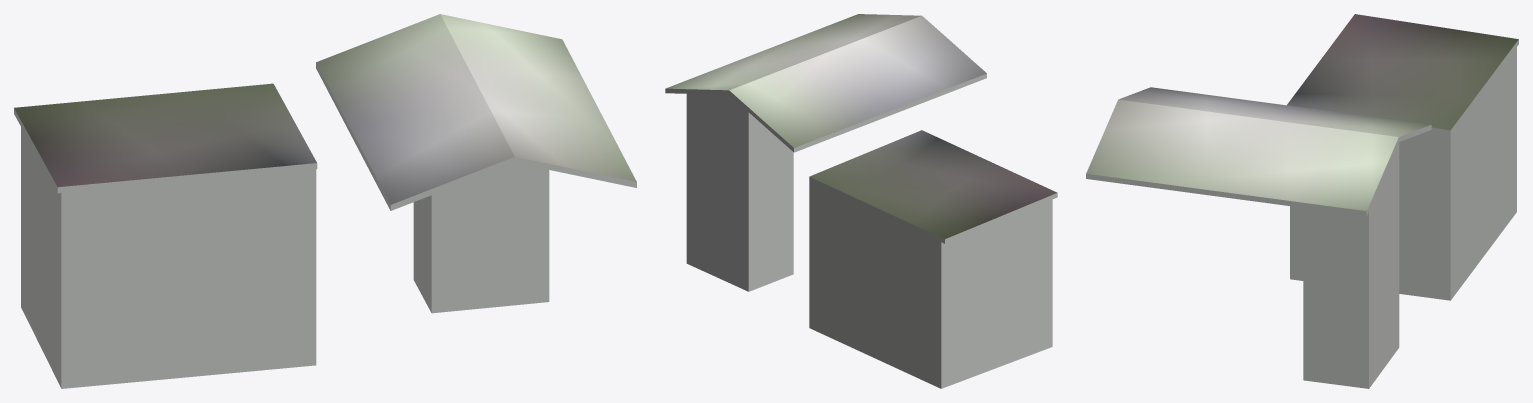
File: LSME_0_-1.glb
3 views of the same model, side by side, from view 1: azimuth 30°, elevation 25°; view 2: azimuth 150°, elevation 25°; view 3: azimuth 270°, elevation 25° (orthographic). The views are drawn at different scales.
Visible parts, largest first — view 1: building_7d6cce27a82e2d12, building_99684fab888bd9c4; view 2: building_7d6cce27a82e2d12, building_99684fab888bd9c4; view 3: building_99684fab888bd9c4, building_7d6cce27a82e2d12.
Boxes of the visible parts, bbox=[...] form: building_7d6cce27a82e2d12: bbox=[21, 127, 549, 388]; building_99684fab888bd9c4: bbox=[14, 14, 636, 210]; building_7d6cce27a82e2d12: bbox=[686, 94, 1052, 388]; building_99684fab888bd9c4: bbox=[665, 14, 1057, 243]; building_99684fab888bd9c4: bbox=[1086, 14, 1518, 216]; building_7d6cce27a82e2d12: bbox=[1290, 47, 1516, 388].
Bounding box in the file's own units: 17.51 × 8.5 × 15.07.
2 materials, 1 textured.
